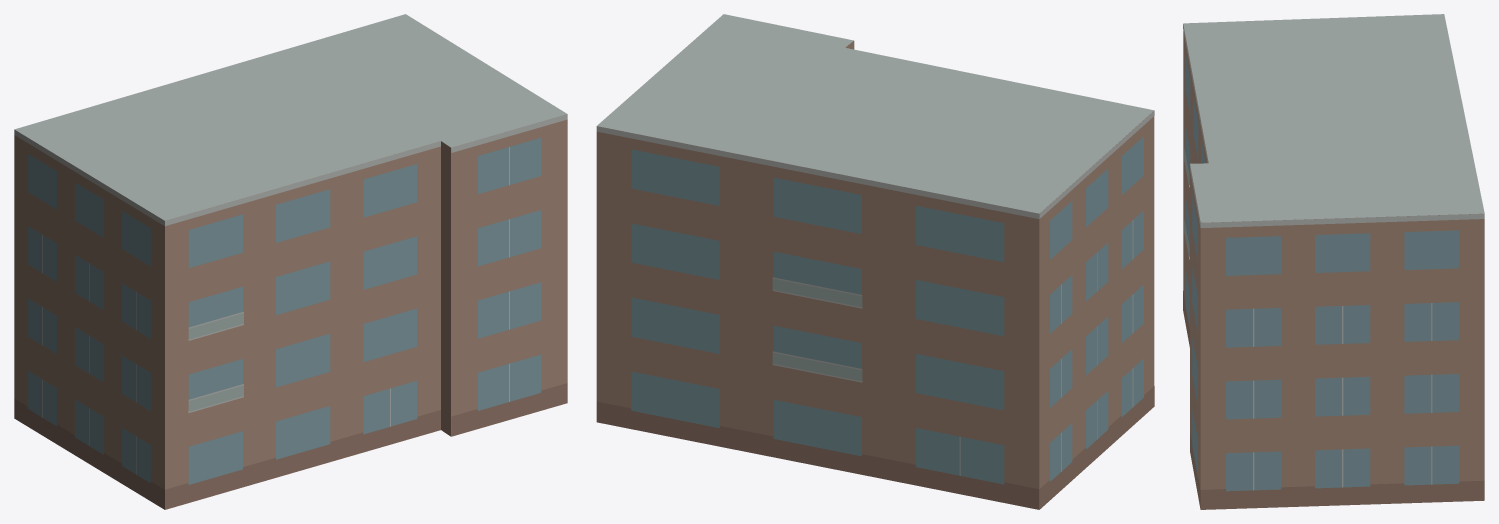
File: survey-upis-32735353.glb
The picture shows the model from 3 angles, left to right: view 1: azimuth 30°, elevation 25°; view 2: azimuth 150°, elevation 25°; view 3: azimuth 270°, elevation 25°; orthographic projection. The views are drawn at different scales.
Visible parts, largest first — view 1: survey-upis-32735353.tmp; view 2: survey-upis-32735353.tmp; view 3: survey-upis-32735353.tmp.
Boxes of the visible parts, x1,y1,x2,y2 form: survey-upis-32735353.tmp: (14, 14, 567, 509); survey-upis-32735353.tmp: (596, 14, 1154, 509); survey-upis-32735353.tmp: (1183, 14, 1484, 509).
Size of the model in its own units: 20.36 by 13.05 by 12.43.
